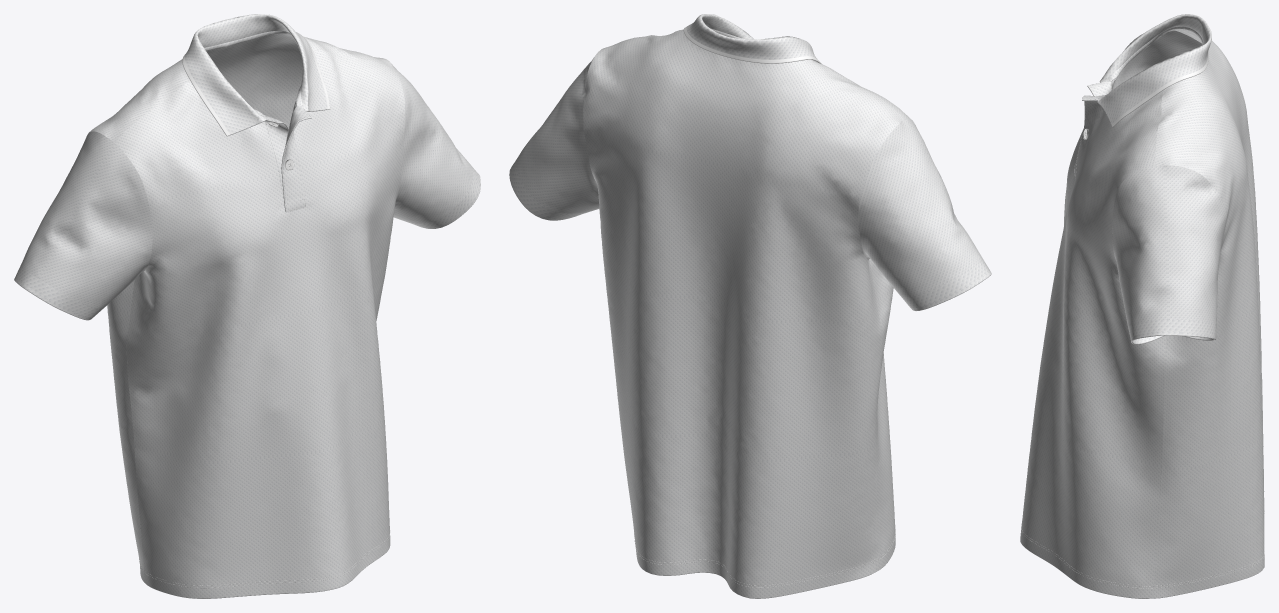
The model's file is polo-tshirt.glb.
The picture shows the model from 3 angles, left to right: view 1: azimuth 30°, elevation 25°; view 2: azimuth 150°, elevation 25°; view 3: azimuth 270°, elevation 25°; orthographic projection. The views are drawn at different scales.
Visible parts, largest first — view 1: body, neck, cuff; view 2: body, neck, cuff, neck-border; view 3: body, neck, cuff, neck-border, ribbed-hem.
Boxes of the visible parts, x1,y1,x2,y2 form: body: (21,34,472,598); neck: (185,14,327,212); cuff: (14,164,480,320); body: (516,29,983,598); neck: (686,14,817,62); cuff: (509,158,991,311); neck-border: (683,26,822,64); body: (1020,29,1264,598); neck: (1074,14,1211,176); cuff: (1128,319,1216,344); neck-border: (1111,50,1208,127); ribbed-hem: (1021,79,1264,588).
Bounding box in the file's own units: 1.88 × 2.04 × 0.8819.
7 materials, 4 textured.
